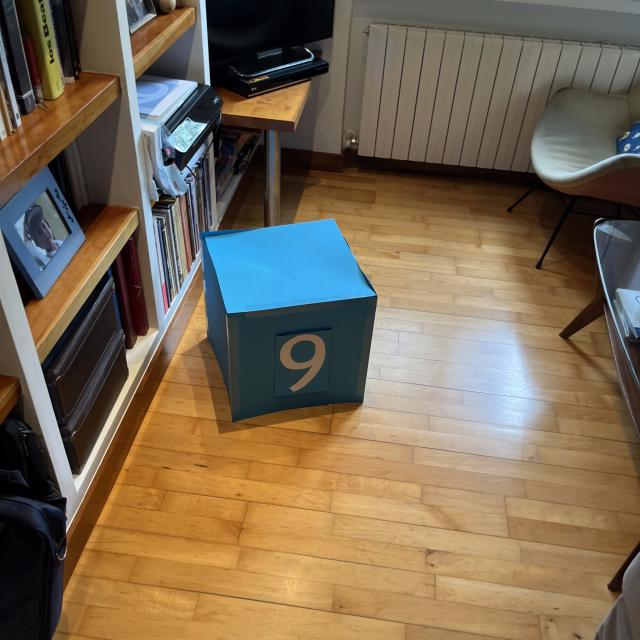box: (194, 214, 381, 424)
